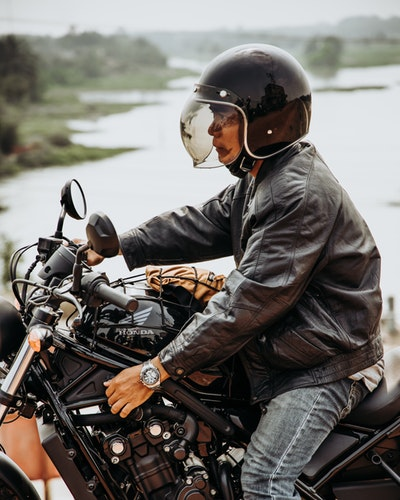helmet: (190, 52, 313, 152)
